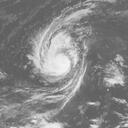cyclone: (34, 40, 78, 80)
